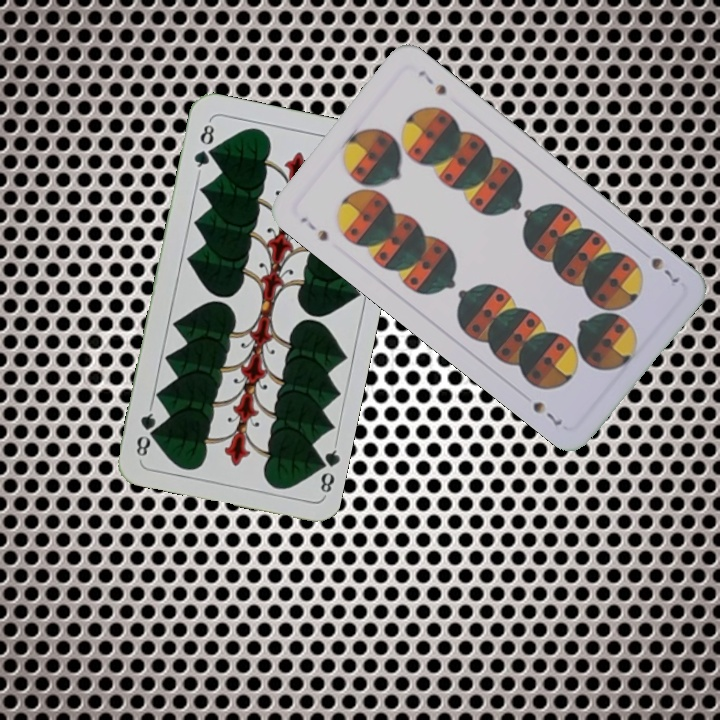G8: (311, 439, 342, 498), (189, 117, 217, 176)
S7: (647, 253, 682, 286), (296, 212, 331, 244)
